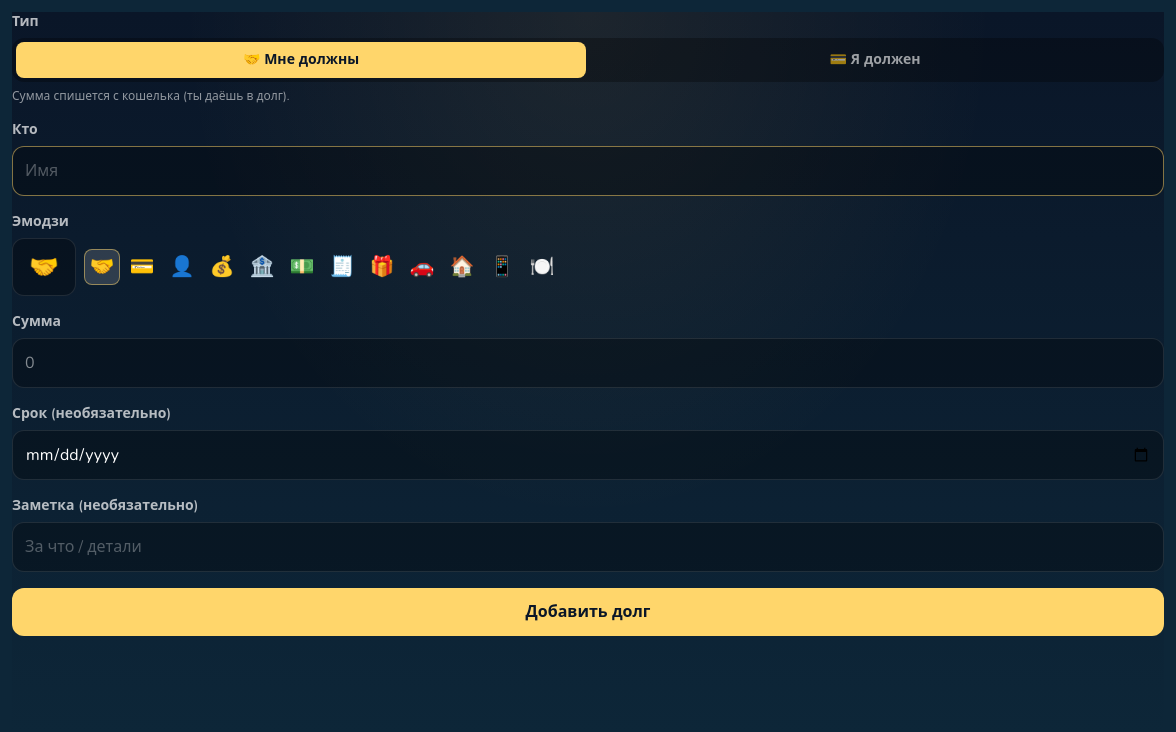
Scenario: DebtForm (новый) › требует имя
This screenshot has width=1176, height=732.
Type "1000" into the number field with placeholder "0" at (588, 363), box [12,338,1164,388]
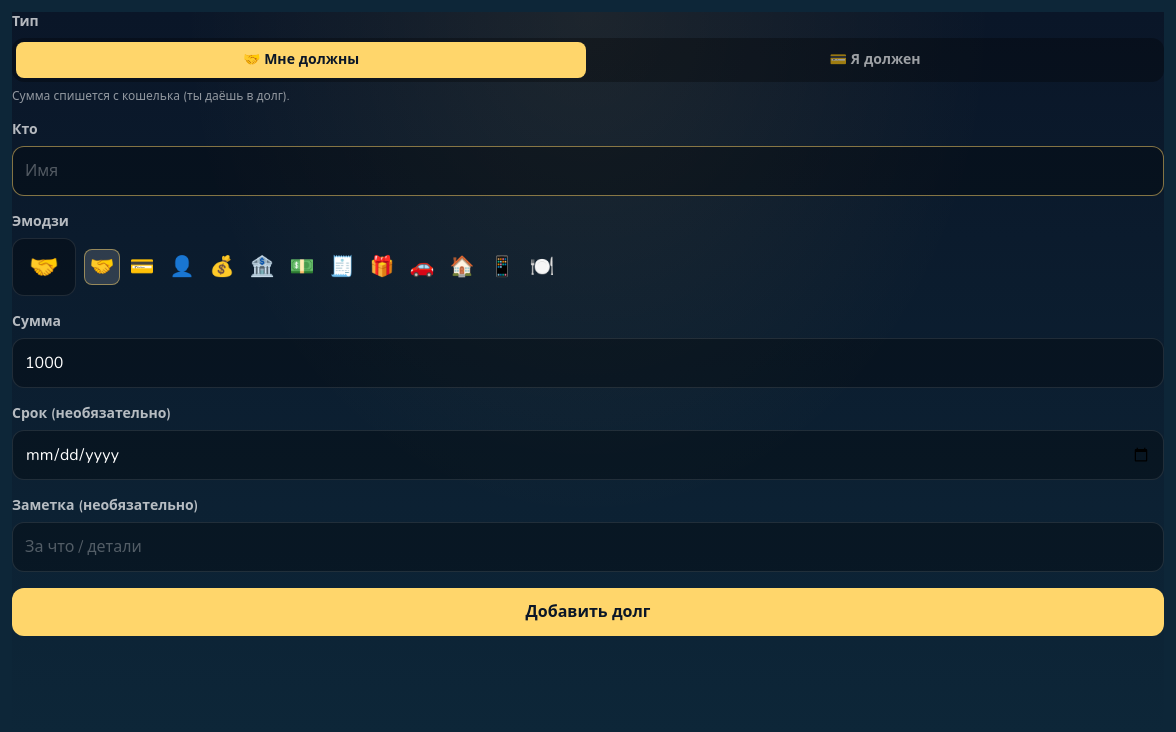
Click the button "Добавить долг" at (588, 612), box [12,588,1164,636]
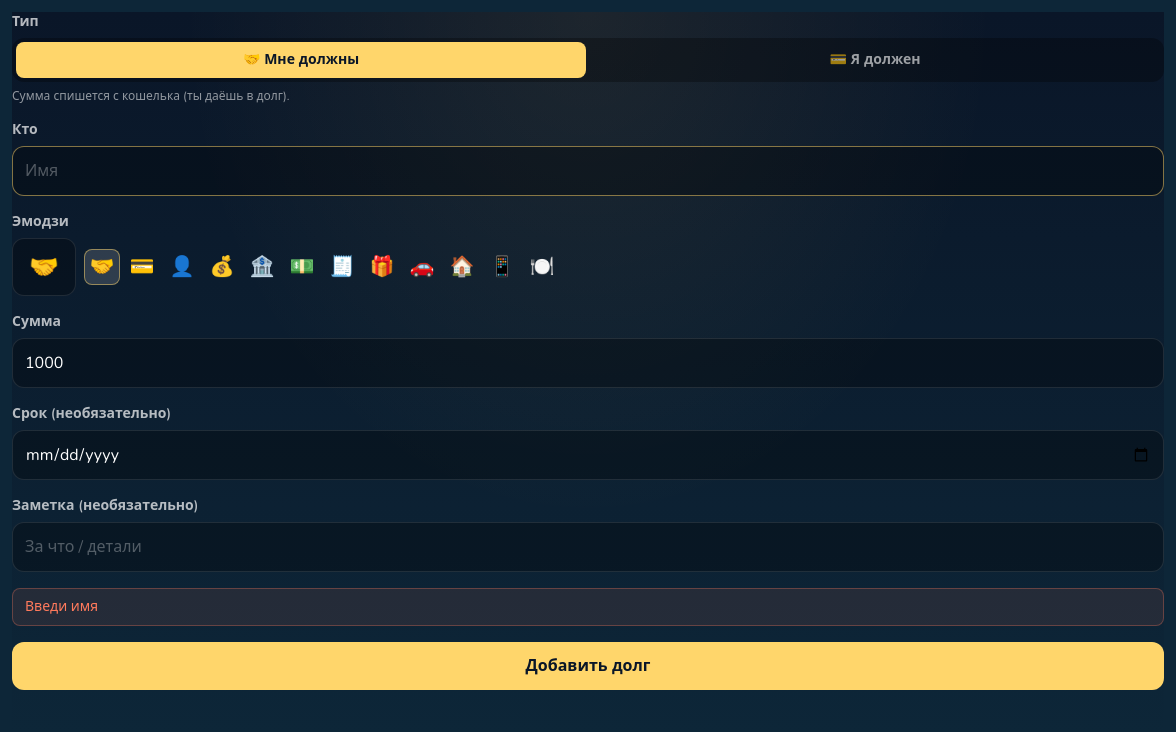
Expected: the text "Введи имя" is shown, [12,588,1164,626]
